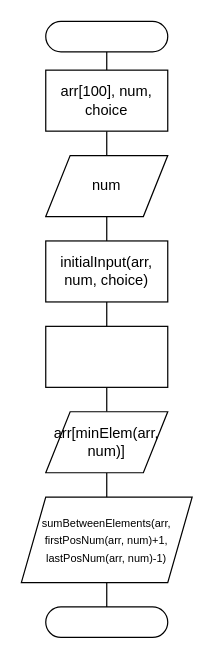
This 214x659 diagram has some shape labels left out. The centre of each missing label's shape, as x and y in pixels:
output(arr, num): [106,356]
Конец: [106,621]
Начало: [106,36]
